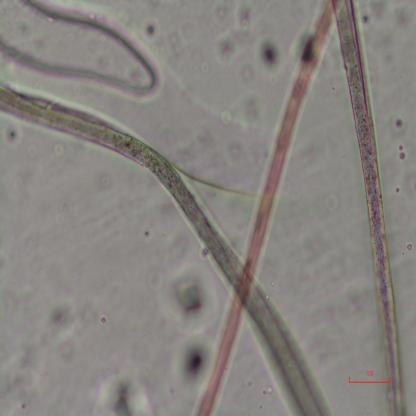Air bubble: (0, 0, 161, 106)
Background material: (156, 254, 213, 326), (173, 328, 217, 390), (34, 300, 76, 359), (98, 370, 152, 414), (217, 3, 254, 60), (217, 92, 261, 132), (260, 37, 280, 70), (140, 16, 162, 42), (1, 124, 22, 146), (370, 0, 388, 20), (360, 8, 373, 28), (396, 141, 406, 162), (394, 113, 404, 132), (407, 242, 413, 252), (396, 186, 402, 194)
Microfibre: (0, 85, 331, 414), (194, 0, 335, 414), (332, 0, 406, 416)
